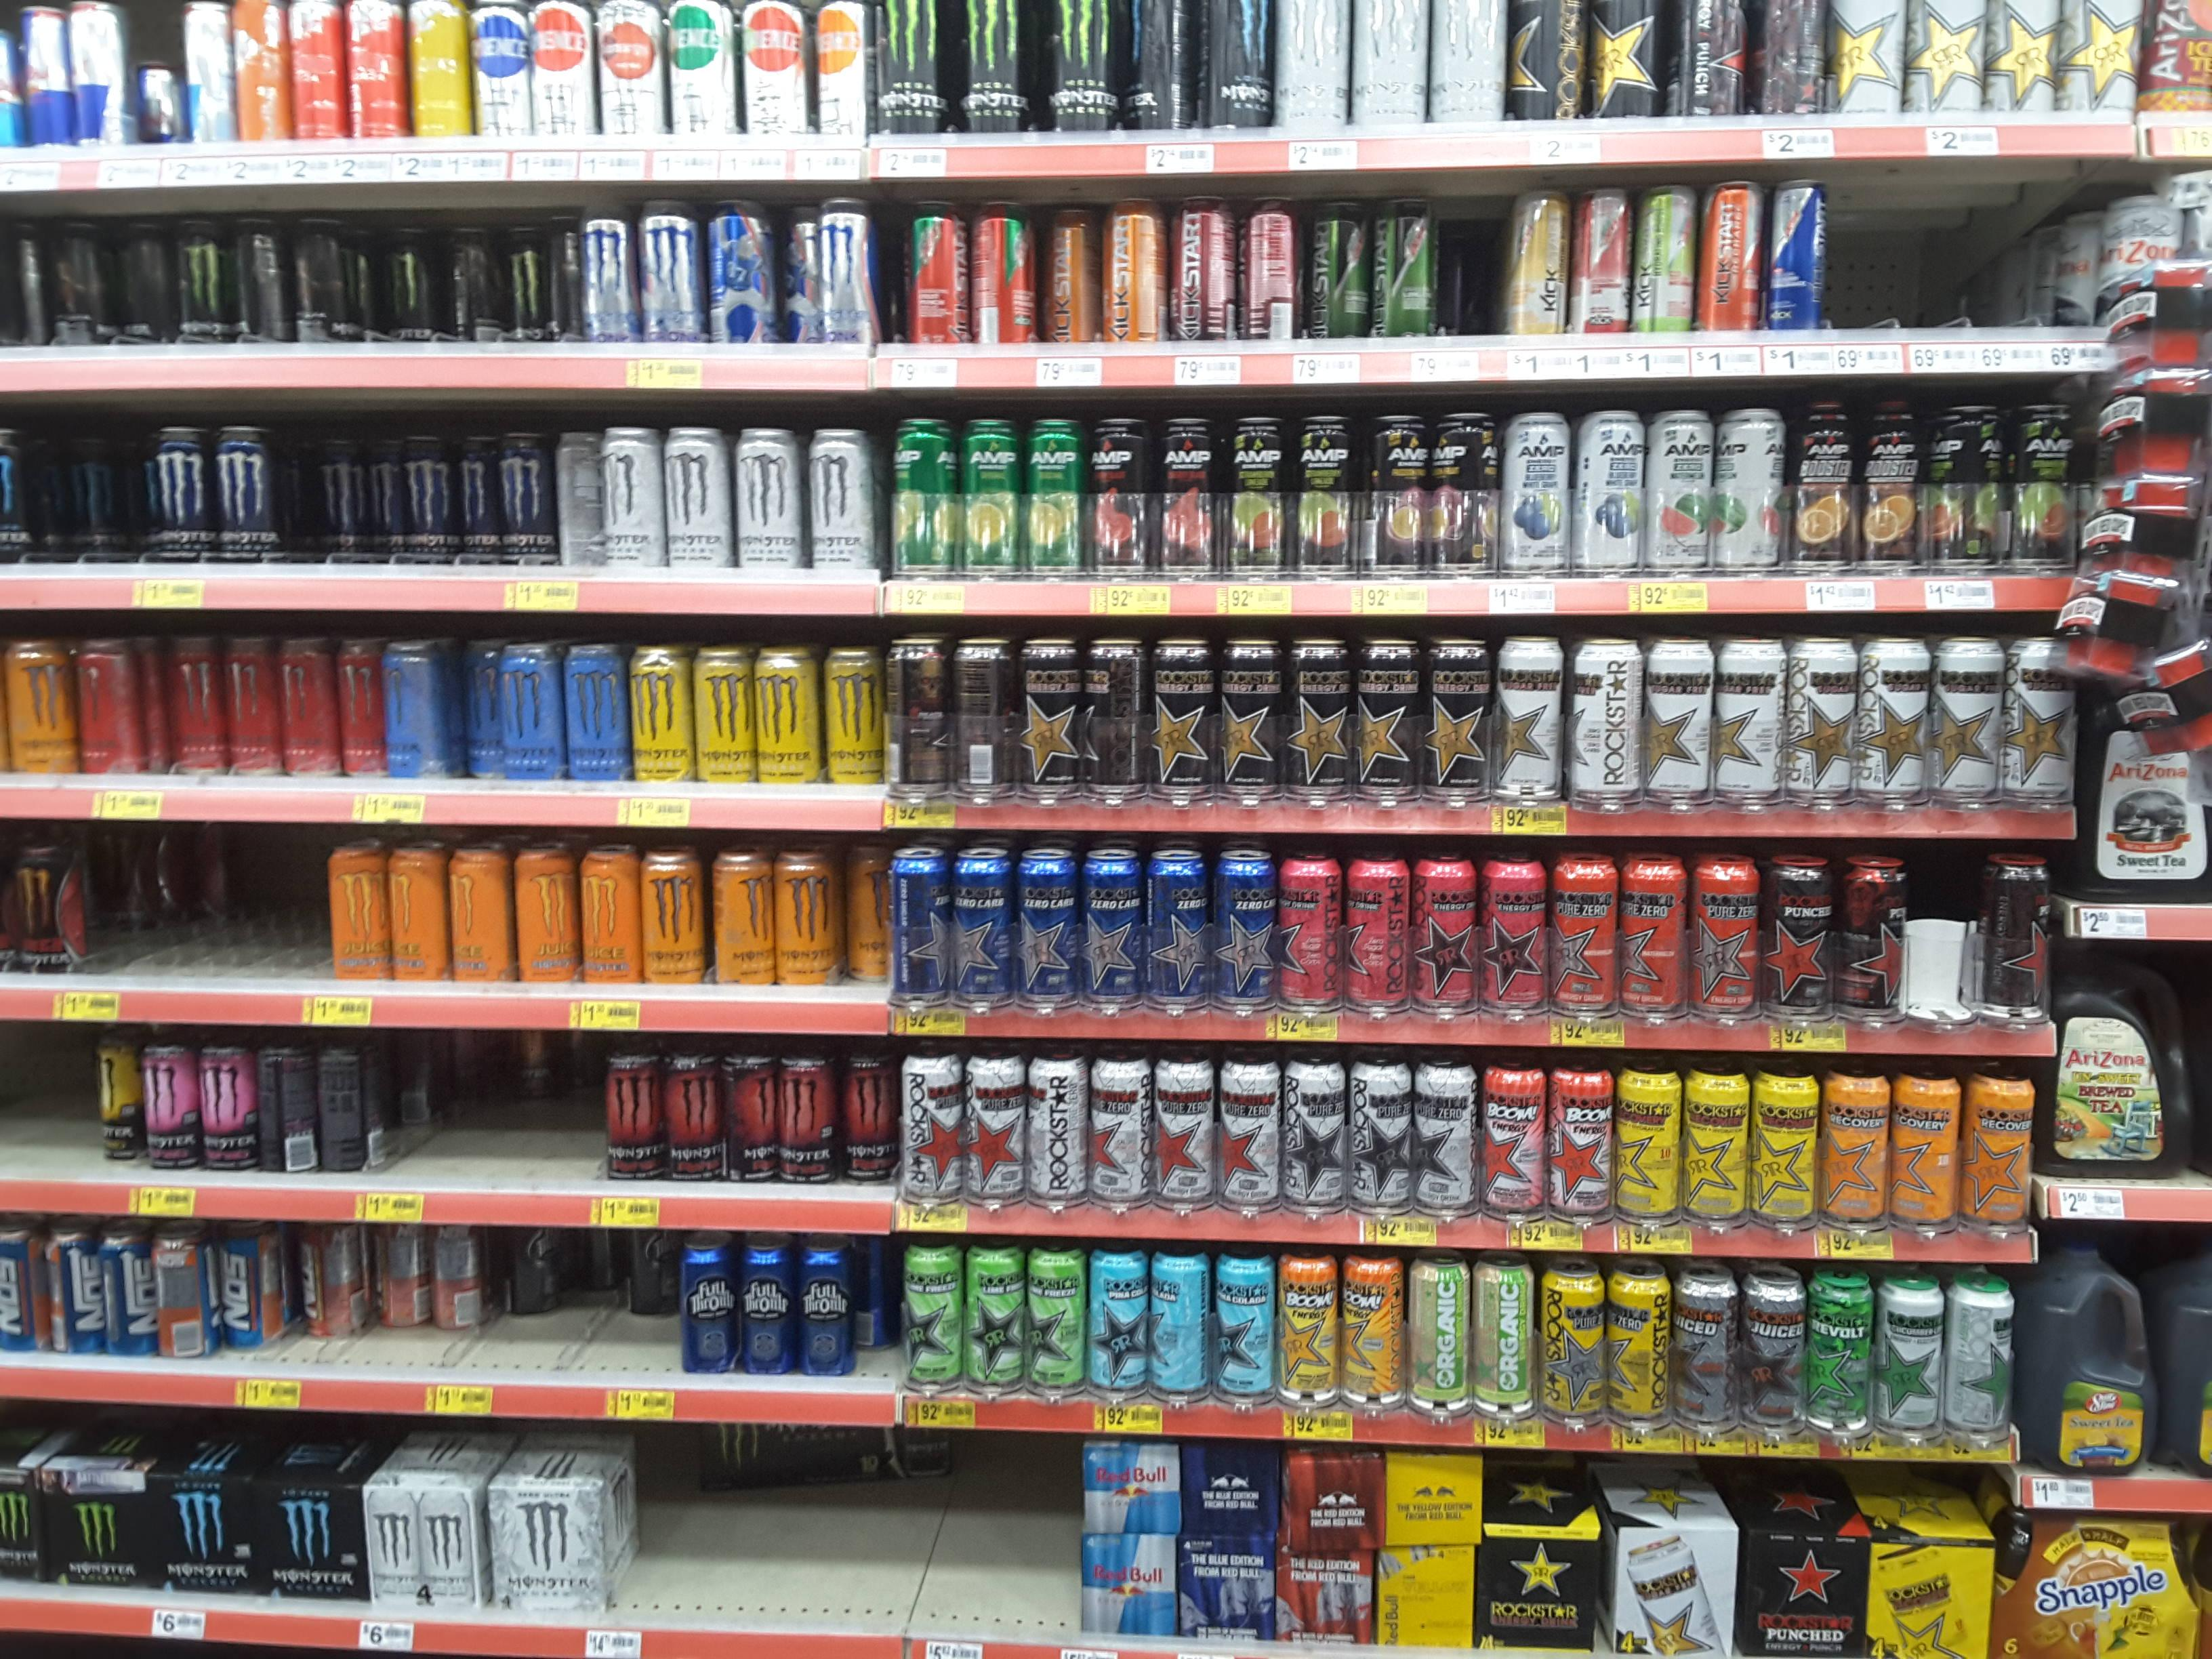empty: (625, 1483, 740, 1626), (740, 1486, 855, 1629), (853, 1486, 951, 1633), (956, 1493, 1054, 1640), (253, 828, 324, 979), (397, 1028, 469, 1178), (536, 1037, 608, 1187), (24, 1026, 96, 1176), (113, 829, 183, 979), (186, 829, 256, 979), (474, 1032, 543, 1182), (1822, 190, 1895, 329), (1904, 193, 1977, 333), (1982, 190, 2054, 329), (1442, 193, 1514, 333), (479, 1255, 547, 1385), (615, 1256, 681, 1389), (547, 1253, 613, 1384)
